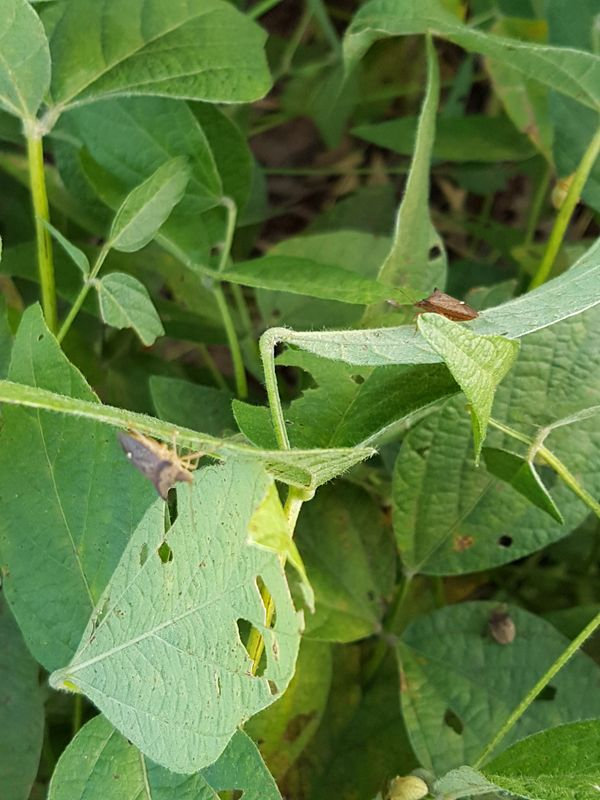Euschistus_heros_adulto: (104, 416, 215, 511), (407, 278, 484, 339)
Euschistus_heros_ninfa: (478, 604, 523, 652), (379, 770, 433, 800)
